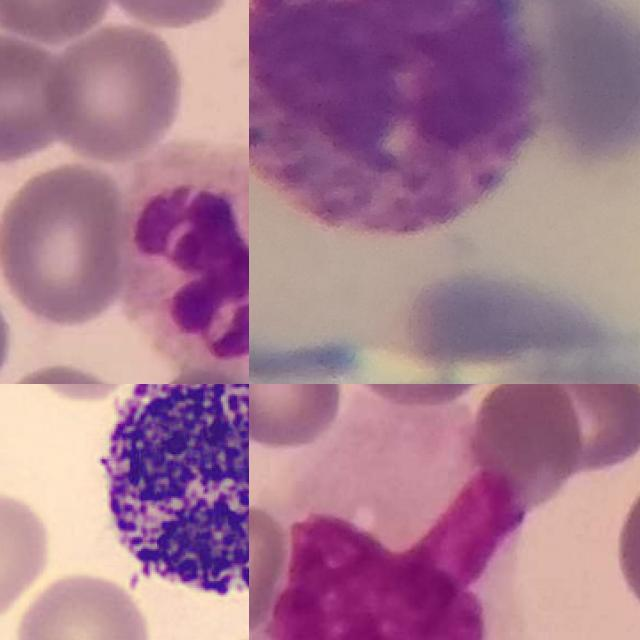Basophil: (249, 0, 548, 235), (84, 384, 249, 619)
Monocyte: (268, 419, 529, 640)
Neutrophil: (123, 141, 249, 382)
RBC: (11, 568, 155, 640), (0, 485, 55, 635)
